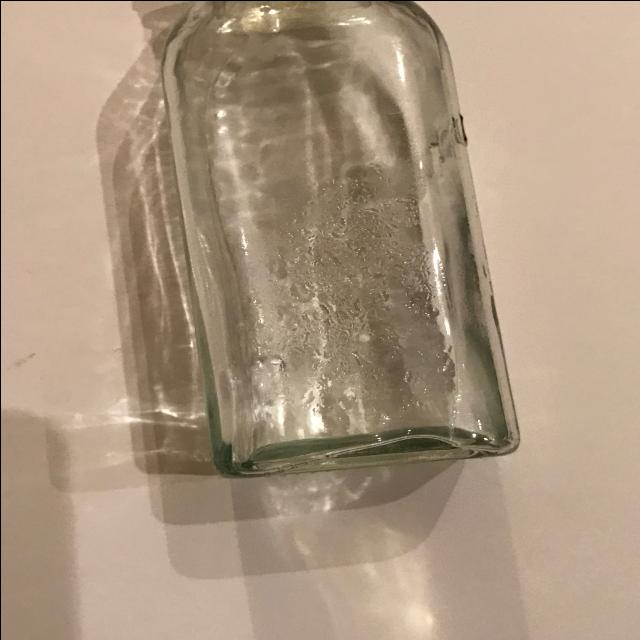glass: (153, 0, 515, 467)
